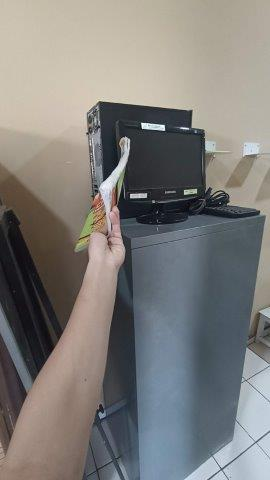kertas: (75, 135, 130, 257)
